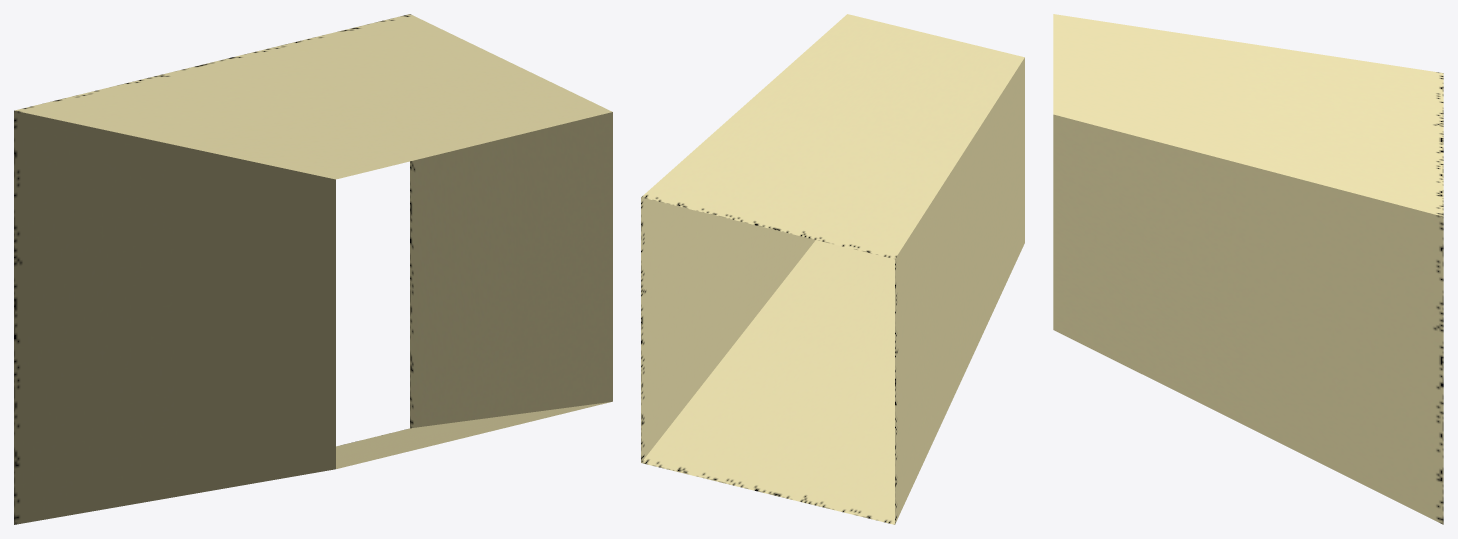
File: GodRay.fbx
The picture shows the model from 3 angles, left to right: view 1: azimuth 30°, elevation 25°; view 2: azimuth 150°, elevation 25°; view 3: azimuth 270°, elevation 25°; orthographic projection. The views are drawn at different scales.
Visible parts, largest first — view 1: Cube.002; view 2: Cube.002; view 3: Cube.002.
Part boxes in pixels (x1,y1,x2,y2): Cube.002: (14, 14, 612, 524); Cube.002: (641, 14, 1024, 524); Cube.002: (1053, 14, 1443, 524).
Size of the model in its own units: 286 by 361 by 328.
